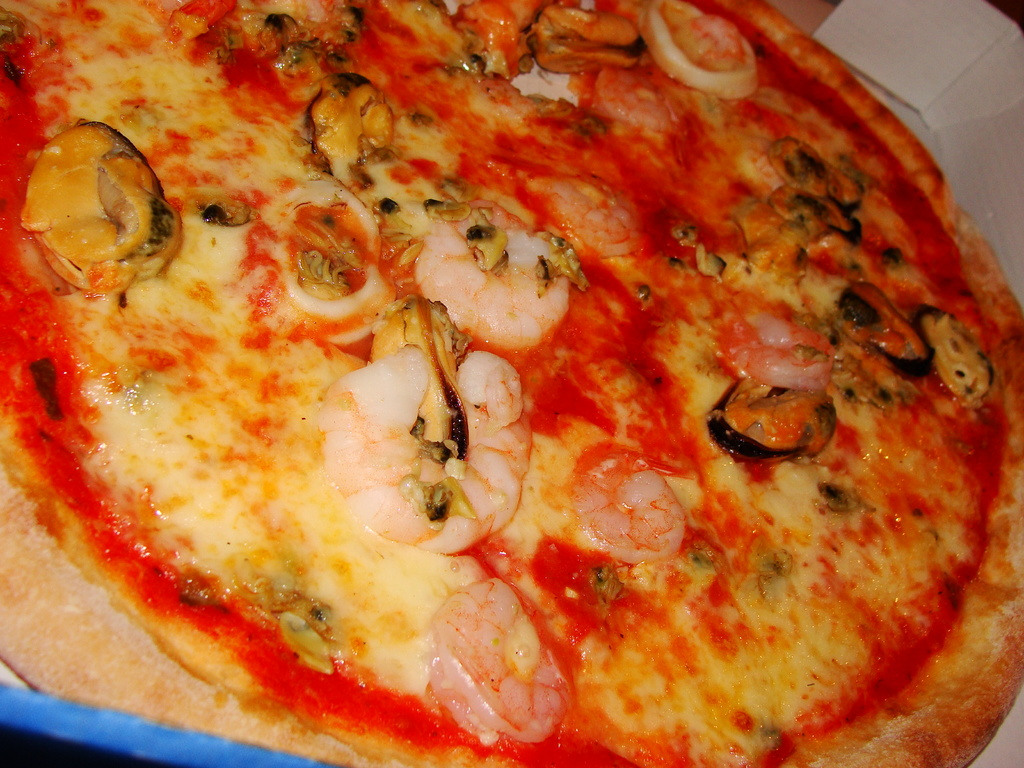Pizza: (0, 1, 1011, 768)
